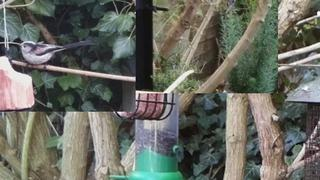long tailed tit: (18, 40, 96, 70)
